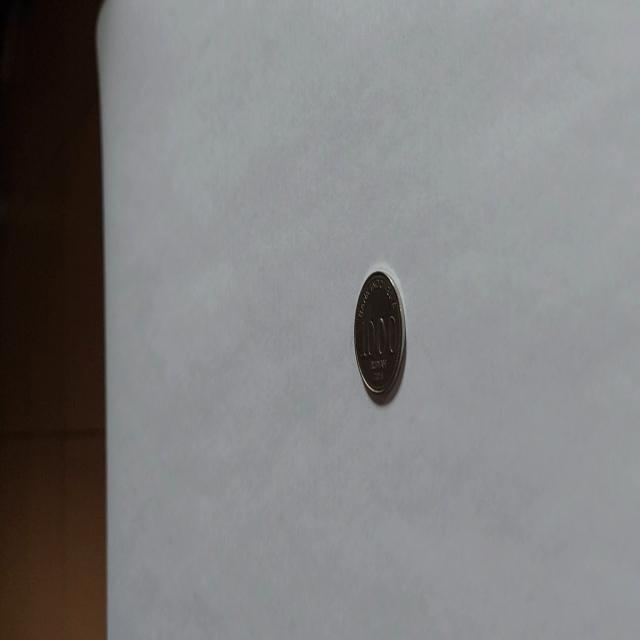seribu rupiah koin: (352, 268, 406, 404)
